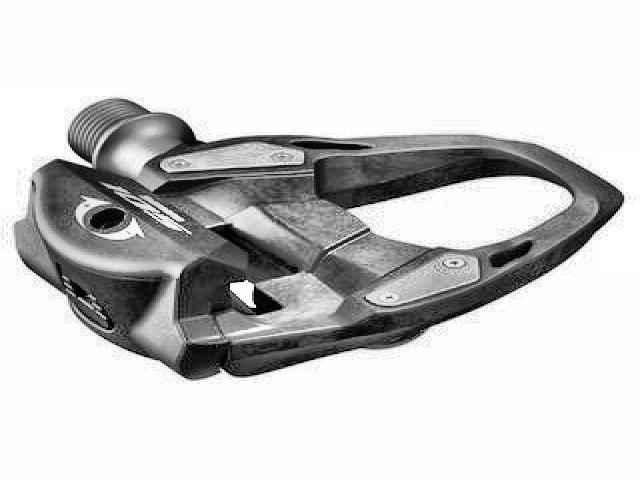pedal: (11, 94, 622, 384)
